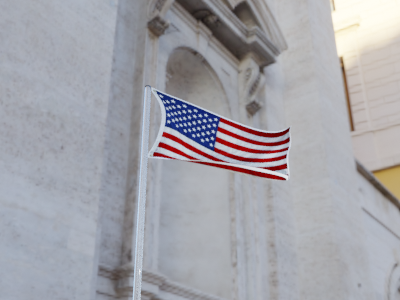America flag: (149, 85, 293, 182)
